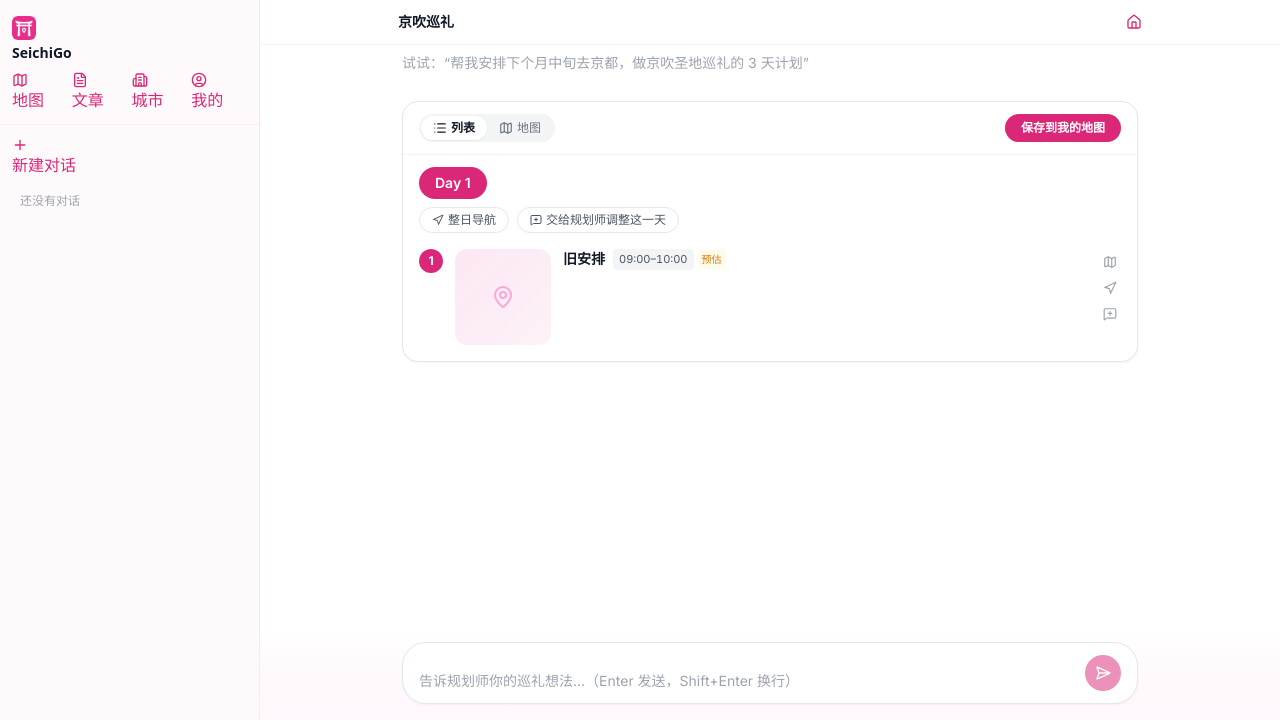
Test: PlanPlanner 实时 SSE 路径 › 收到 daymap 事件按 revision 去重后插入时间线；重复 revision 不重复渲染；plan_updated 刷新当前计划
Type "安排一天宇治巡礼" into the text box with placeholder "告诉规划师你的巡礼想法…（Enter 发送，Shift+Enter 换行）".
click(748, 681); type("安排一天宇治巡礼")  # box [419,671,1077,691]
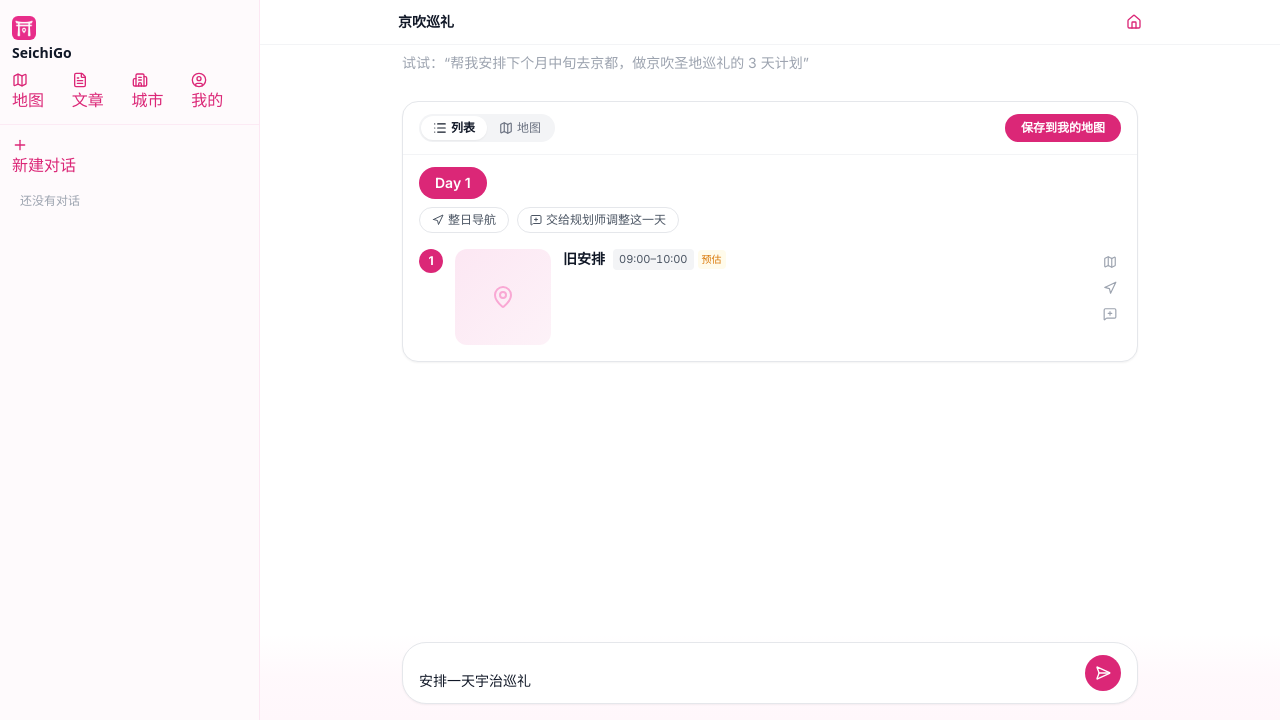
Click the button named "发送".
click(1103, 673)  # box [1085,655,1121,691]
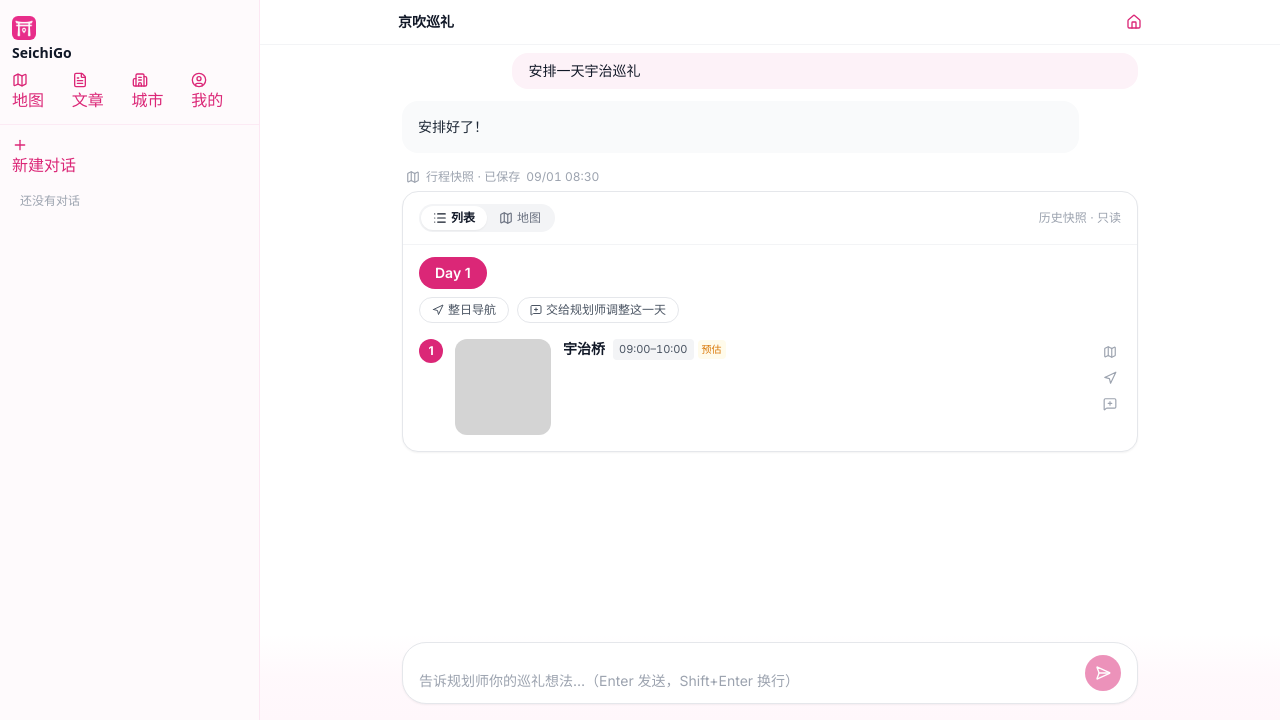
Check: the text "安排好了！" is shown, box [418,118,488,135]
Check: the button "保存到我的地图" is gone
